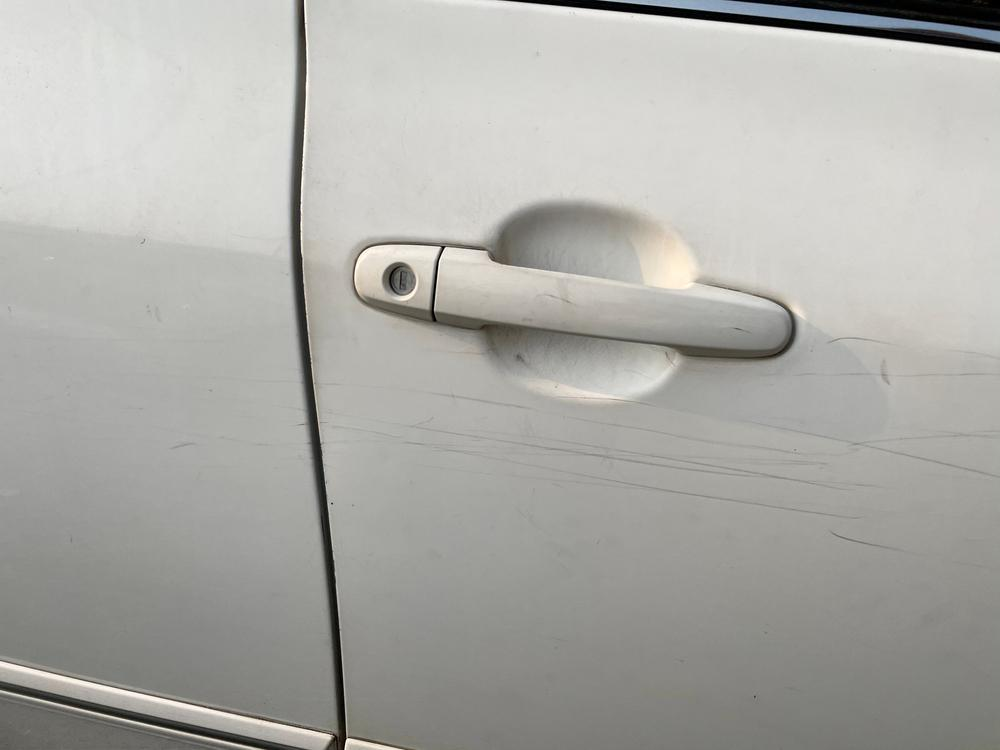scratch: (376, 327, 1000, 577)
